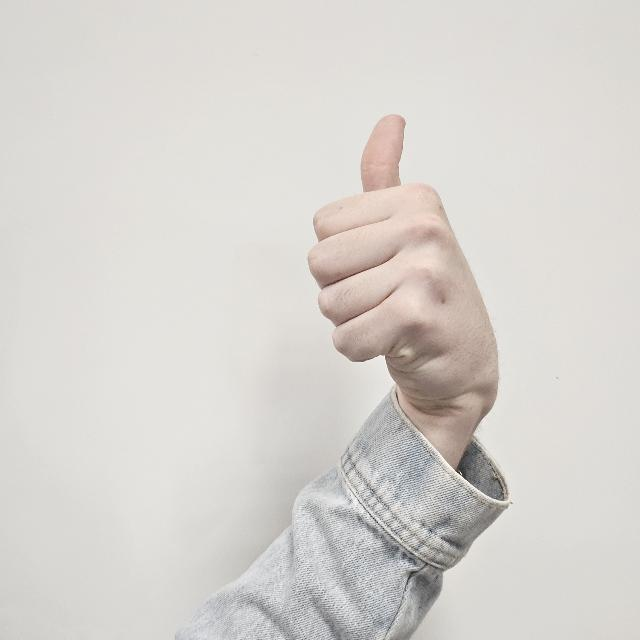Start: (310, 104, 462, 374)
